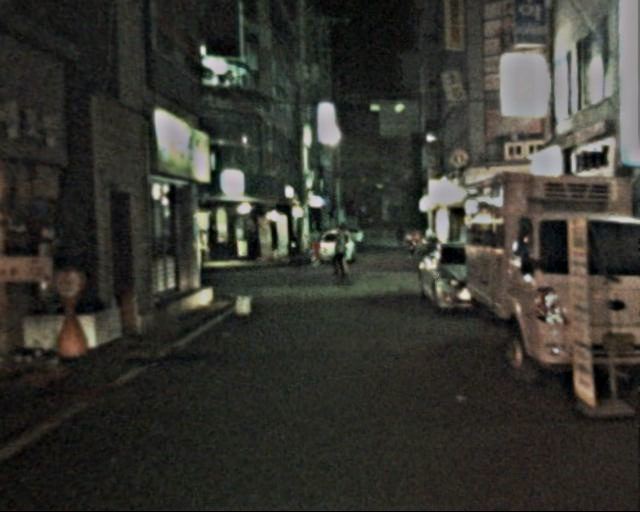person: (327, 223, 354, 282)
